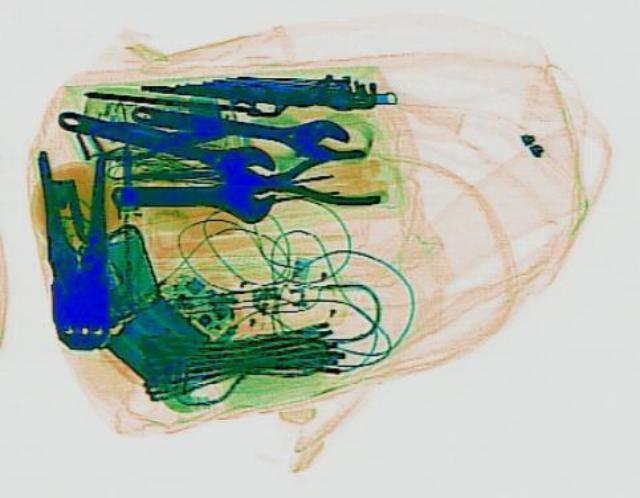Pliers: (35, 147, 117, 347), (254, 148, 378, 209)
Wrench: (44, 96, 284, 193), (126, 82, 350, 159), (109, 170, 274, 219)
